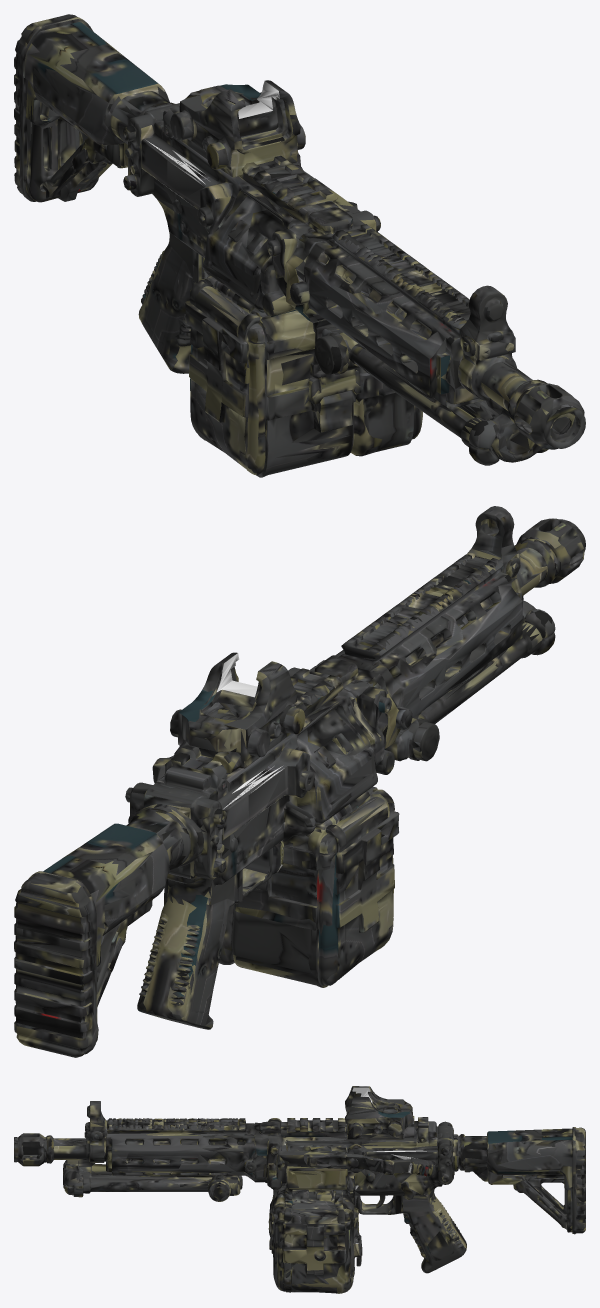
The picture shows the model from 3 angles, top to bottom: view 1: azimuth 30°, elevation 25°; view 2: azimuth 150°, elevation 25°; view 3: azimuth 270°, elevation 25°; orthographic projection. The views are drawn at different scales.
Visible parts, largest first — view 1: Body, Magazine, ChargingHandle; view 2: Body, Magazine, ChargingHandle; view 3: Body, Magazine, ChargingHandle.
Boxes of the visible parts, left/top/right/bottom form: Body: left=14, top=14, right=585, bottom=465; Magazine: left=185, top=272, right=422, bottom=477; ChargingHandle: left=144, top=141, right=300, bottom=198; Body: left=14, top=506, right=585, bottom=1057; Magazine: left=164, top=786, right=399, bottom=987; ChargingHandle: left=152, top=757, right=283, bottom=819; Body: left=14, top=1086, right=585, bottom=1273; Magazine: left=264, top=1182, right=360, bottom=1293; ChargingHandle: left=371, top=1152, right=431, bottom=1175.
Size of the model in its own units: 0.3176 by 0.5034 by 1.46.
